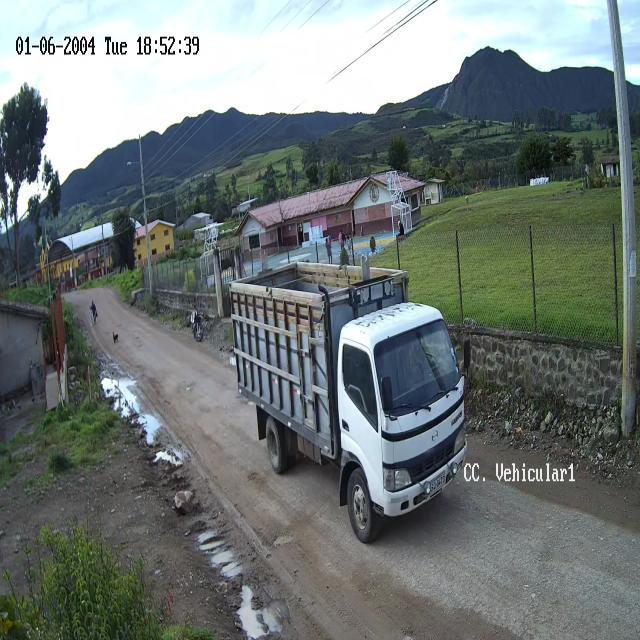TRUCK: (230, 264, 467, 545)
